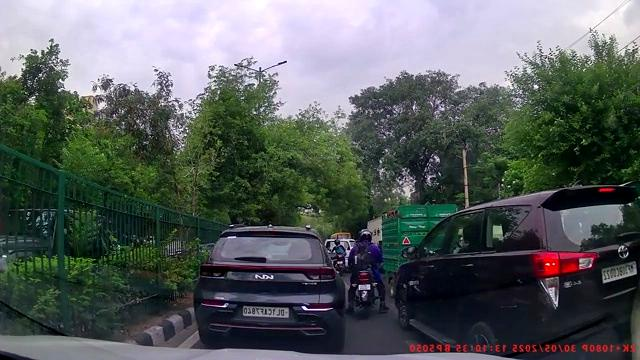motorcycle_with_helmet: (345, 228, 390, 319)
